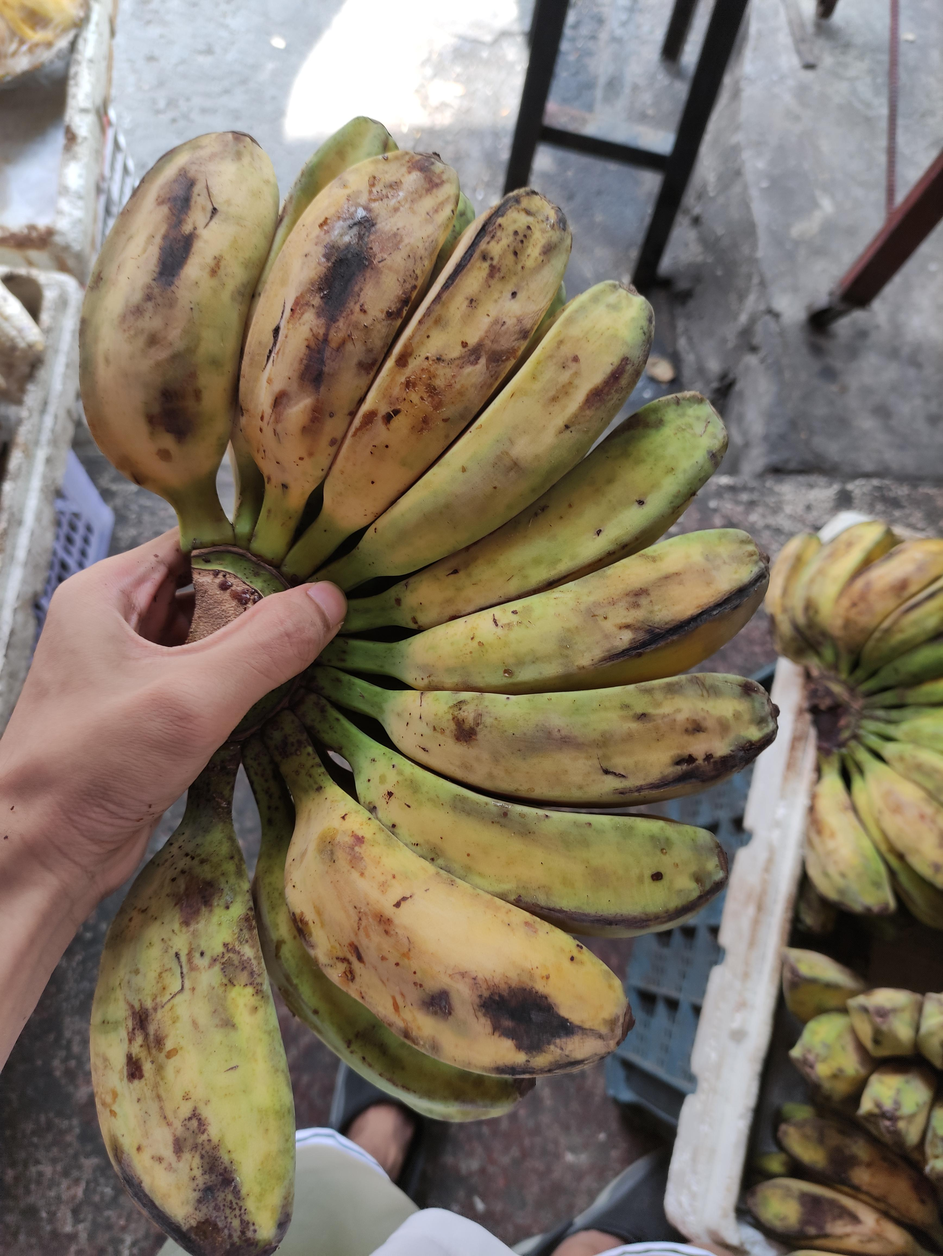underripe: (81, 119, 775, 1256), (766, 523, 943, 933), (781, 951, 943, 1188)
